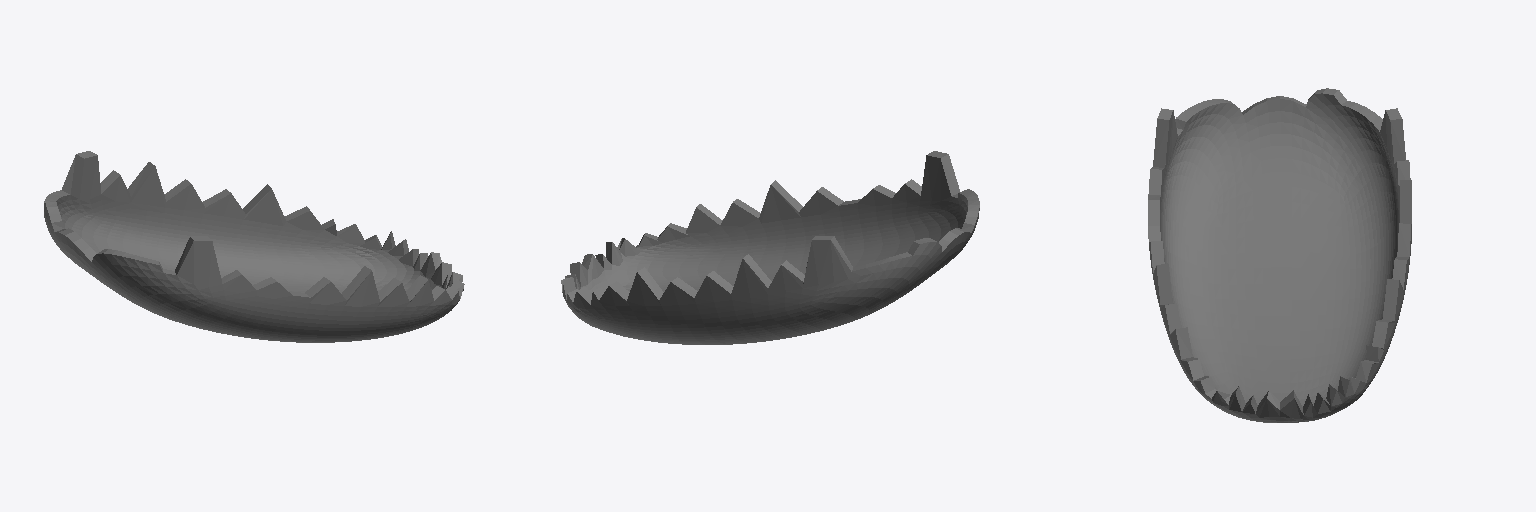
Rendered from godard_mandibula.obj.
The picture shows the model from 3 angles: view 1: azimuth 30°, elevation 25°; view 2: azimuth 150°, elevation 25°; view 3: azimuth 270°, elevation 25°; orthographic projection.
Visible parts, largest first — view 1: Mandibula; view 2: Mandibula; view 3: Mandibula.
Boxes of the visible parts, <box> form: Mandibula: <box>44,151,464,342</box>; Mandibula: <box>561,151,979,344</box>; Mandibula: <box>1148,88,1411,422</box>.
Size of the model in its own units: 2.68 by 1.19 by 1.61.